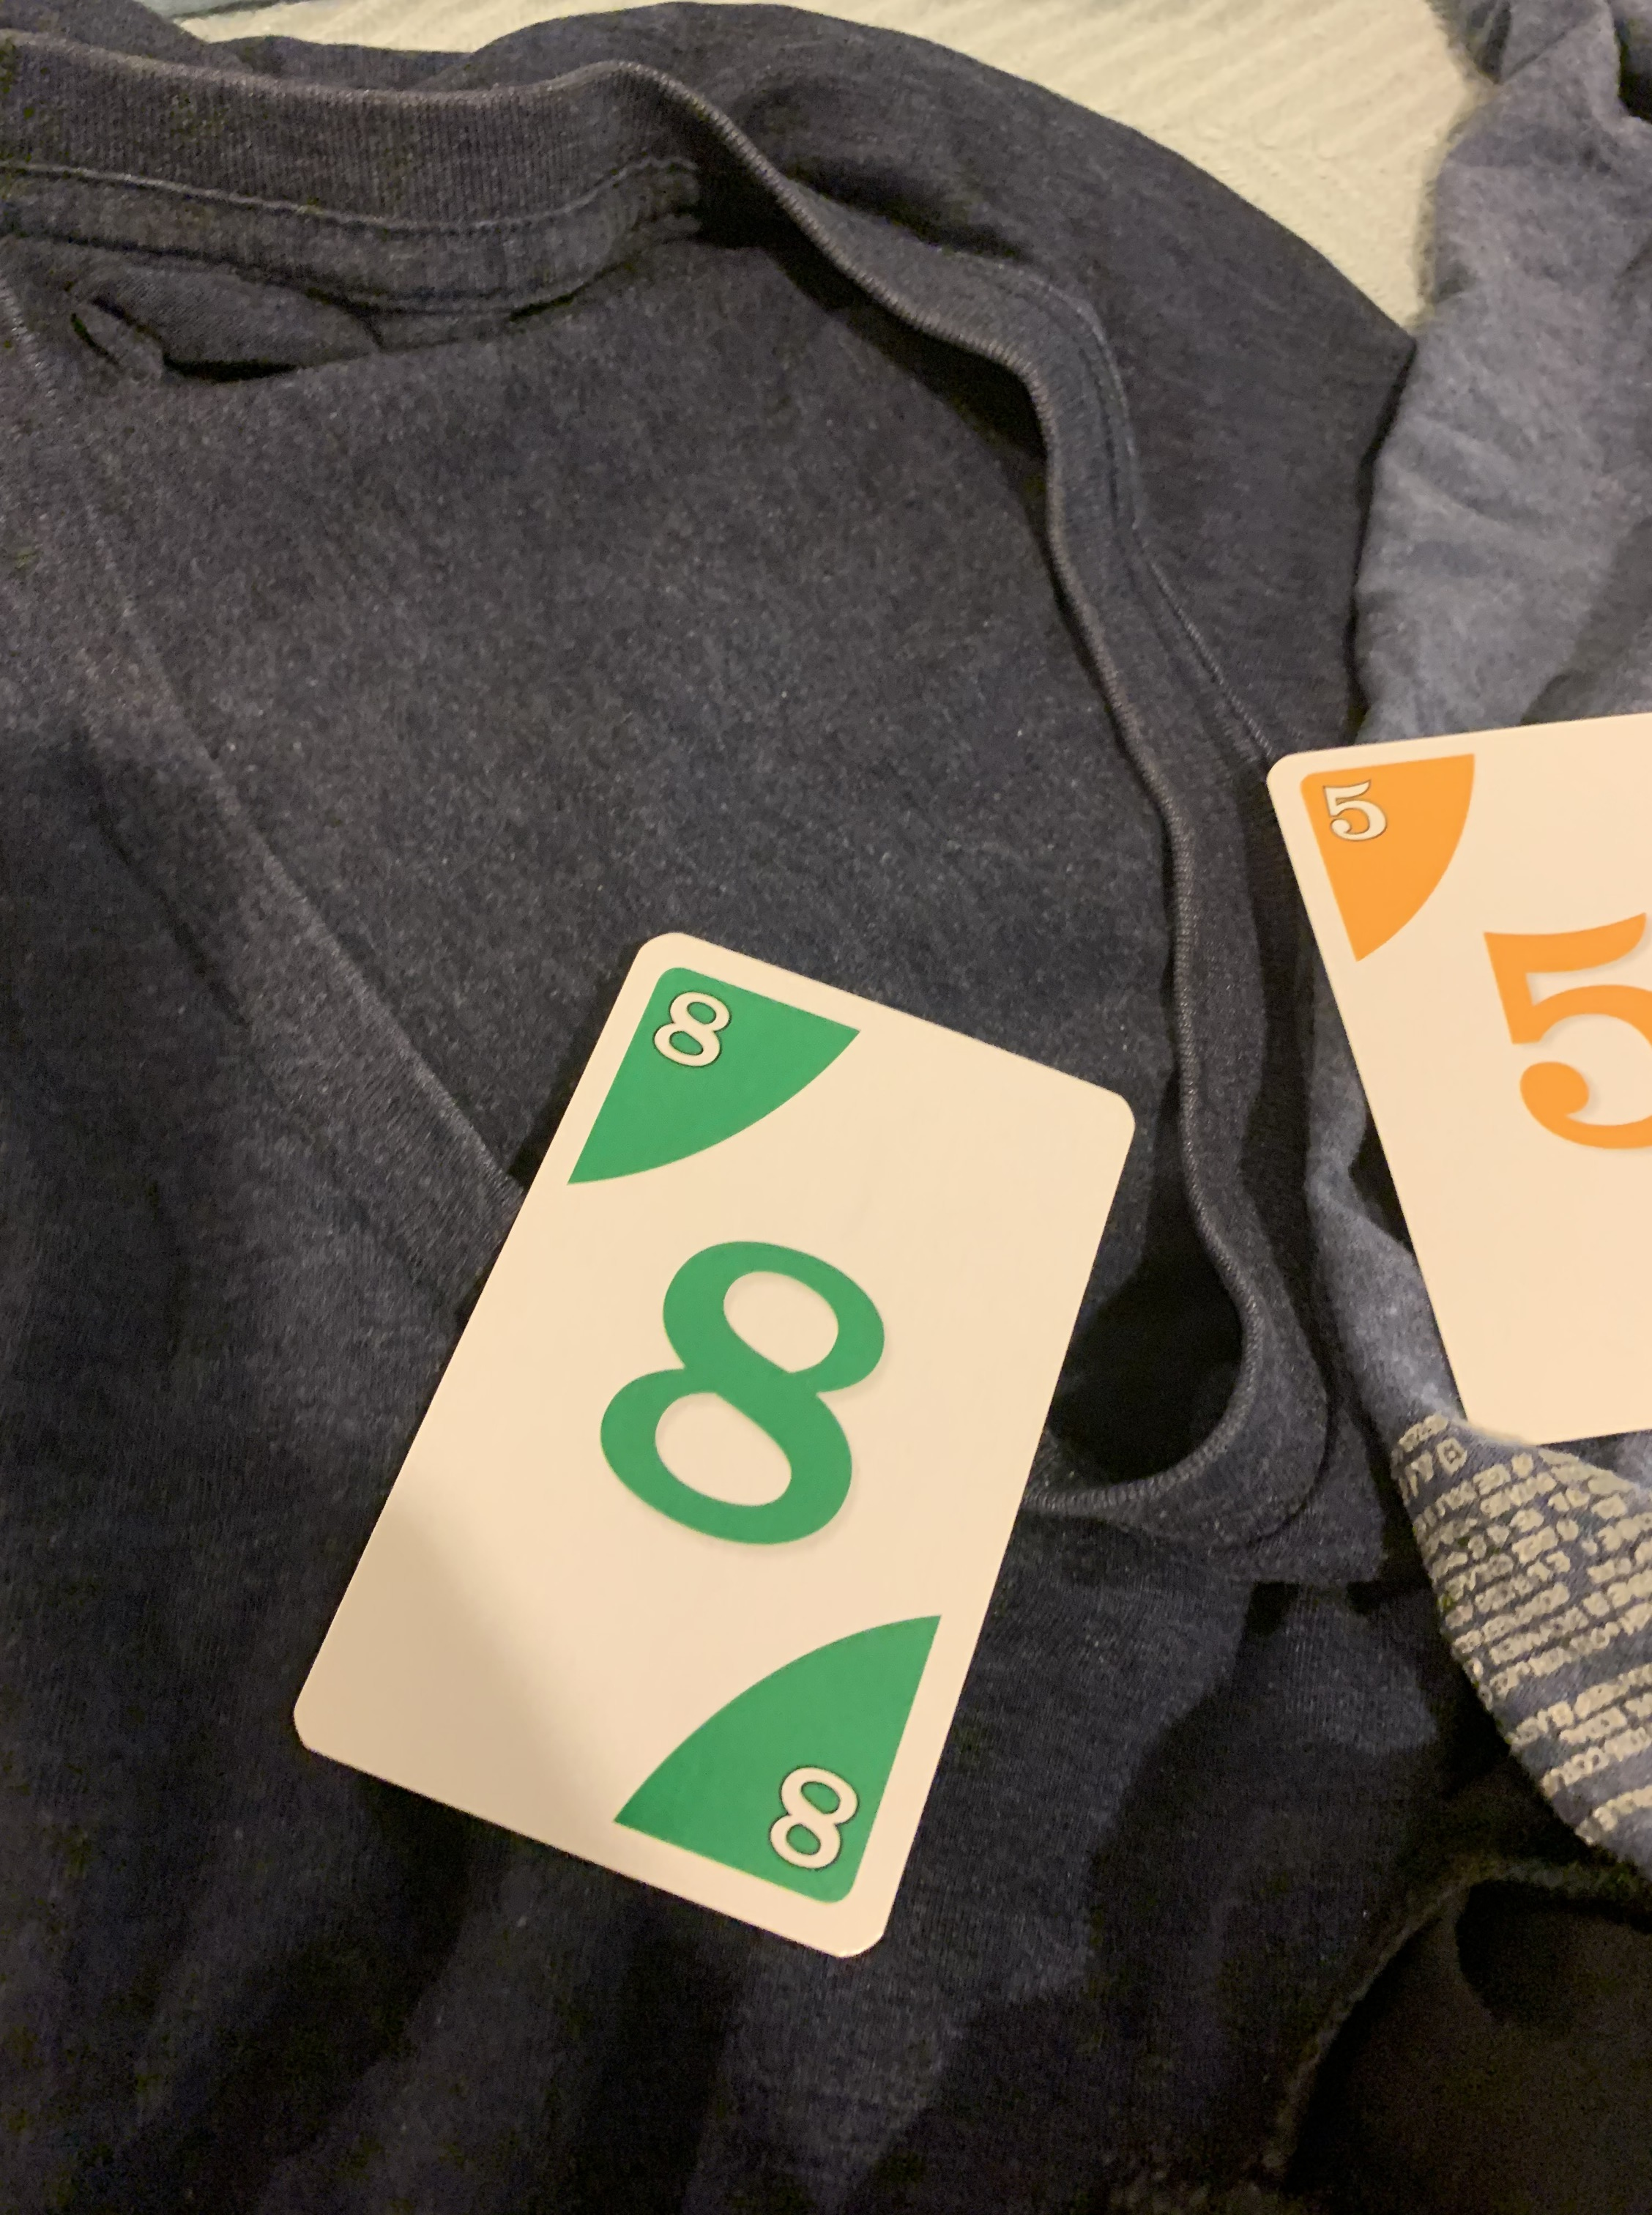eight: (293, 932, 1145, 1972)
five: (1267, 687, 1652, 1467)
